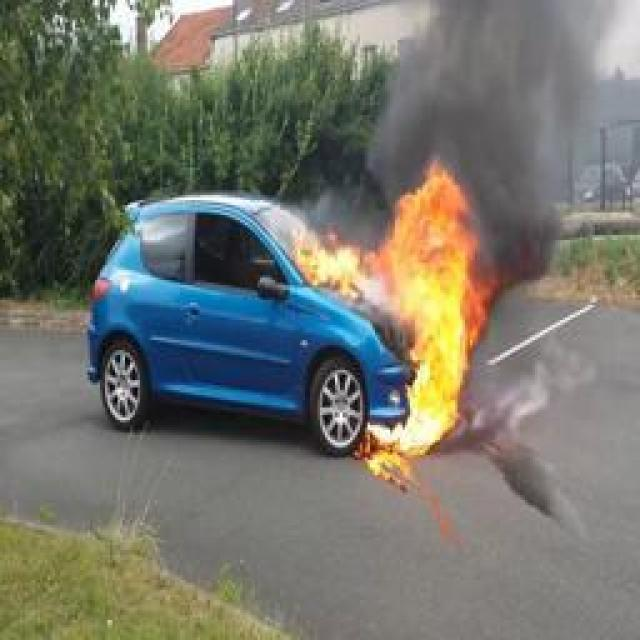Fire: (299, 154, 499, 458)
